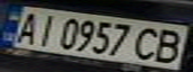0: (54, 16, 81, 51)
5: (90, 19, 115, 56)
7: (109, 20, 136, 57)
9: (72, 17, 96, 54)
A: (9, 9, 45, 45)
B: (148, 26, 190, 64)
C: (127, 25, 169, 62)
I: (30, 11, 60, 47)
